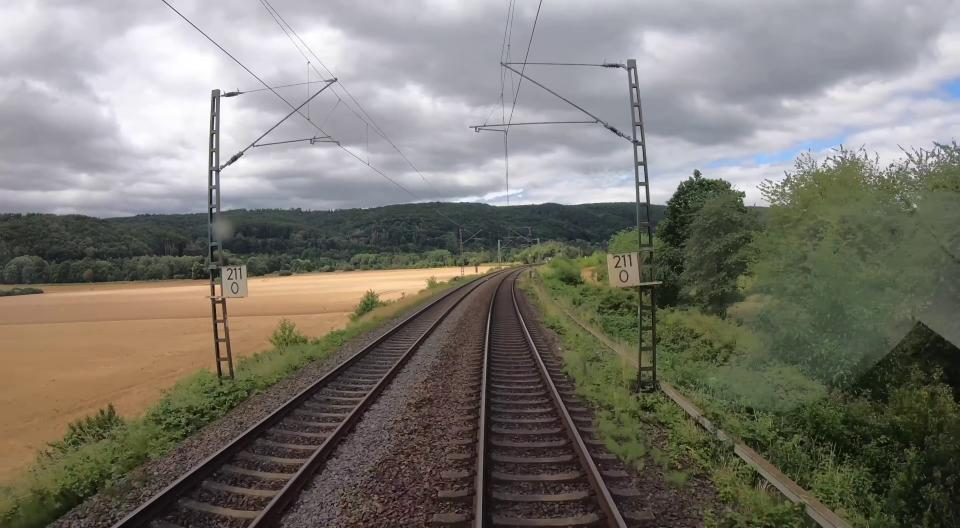Plant: (523, 278, 819, 528)
